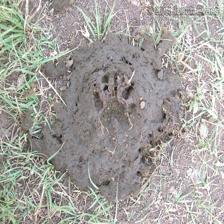raccoon: (89, 73, 141, 137)
